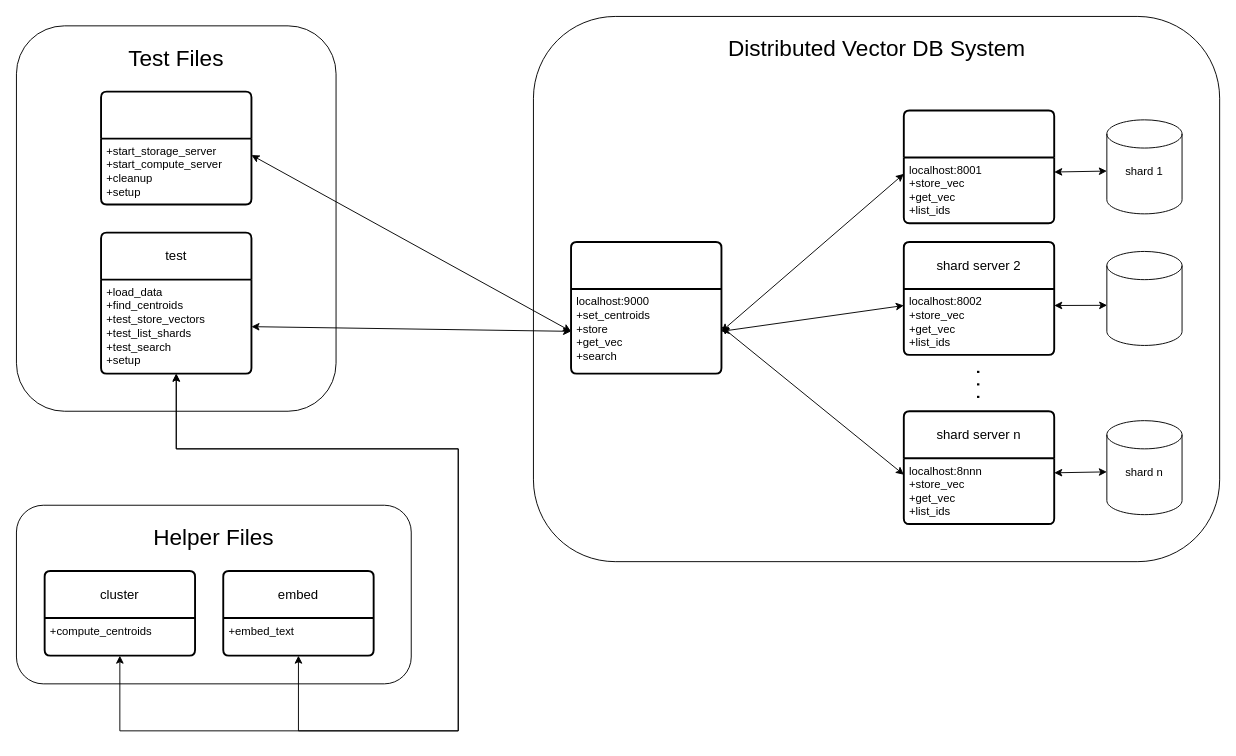
Image size: 1236x756. Some labels were removed from this diagram. The box of each missing label's shape, as (x1, y1, x2, y2) in pixels:
compute server: (570, 241, 722, 374)
server launcher: (100, 90, 252, 205)
shard 2: (1106, 251, 1182, 345)
shard server 1: (902, 109, 1055, 224)
